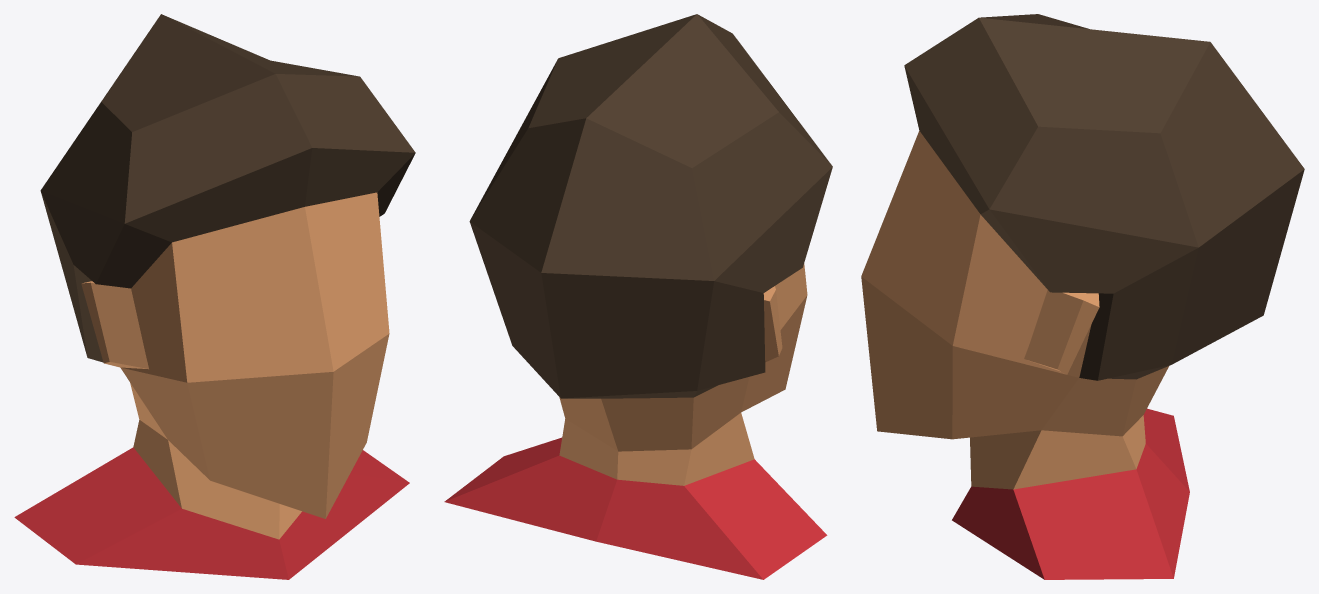
File: Dummy.fbx
The picture shows the model from 3 angles, left to right: view 1: azimuth 30°, elevation 25°; view 2: azimuth 150°, elevation 25°; view 3: azimuth 270°, elevation 25°; orthographic projection. The views are drawn at different scales.
Visible parts, largest first — view 1: boy-sport_Rig; view 2: boy-sport_Rig; view 3: boy-sport_Rig.
Boxes of the visible parts, bbox=[...] form: boy-sport_Rig: bbox=[14, 14, 415, 579]; boy-sport_Rig: bbox=[444, 14, 832, 579]; boy-sport_Rig: bbox=[861, 14, 1304, 579].
Bounding box in the file's own units: 17.72 × 25.15 × 20.11.
